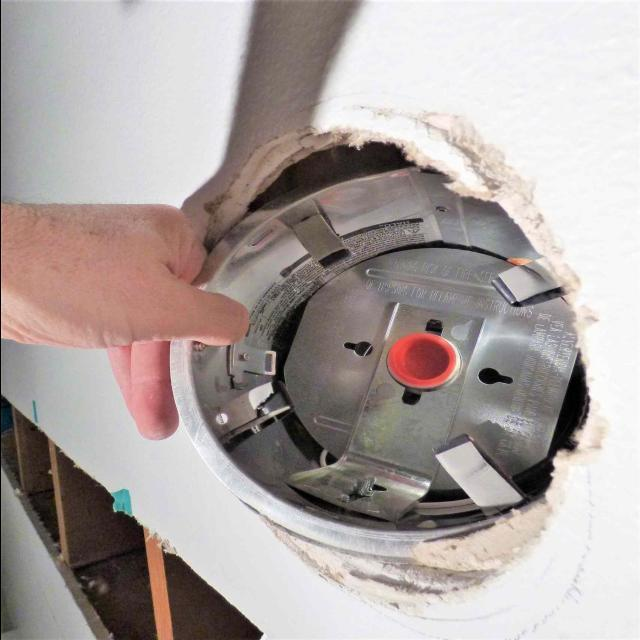Crack: (216, 156, 593, 596)
